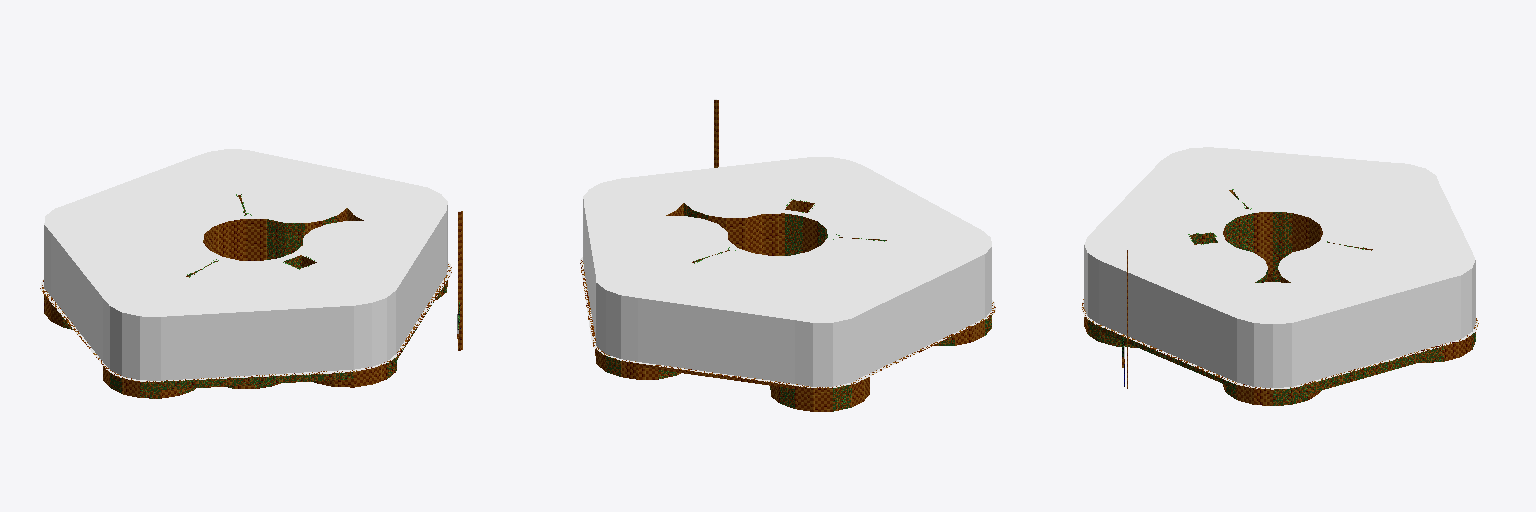
The picture shows the model from 3 angles: view 1: azimuth 30°, elevation 25°; view 2: azimuth 150°, elevation 25°; view 3: azimuth 270°, elevation 25°; orthographic projection.
Visible parts, largest first — view 1: MAP96; view 2: MAP96; view 3: MAP96.
Part boxes in pixels (x1,y1,x2,y2): MAP96: (40, 149, 462, 398); MAP96: (580, 99, 995, 411); MAP96: (1081, 147, 1478, 405).
Size of the model in its own units: 8672 by 3110 by 8096.
19 materials, 13 textured.